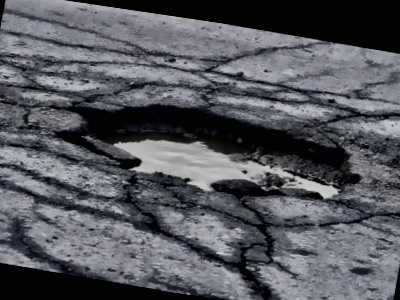pothole: (44, 78, 372, 222)
